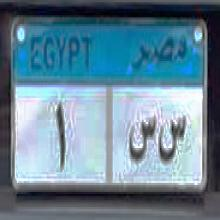1: (54, 98, 68, 175)
seen: (126, 111, 156, 170), (157, 110, 187, 167)
